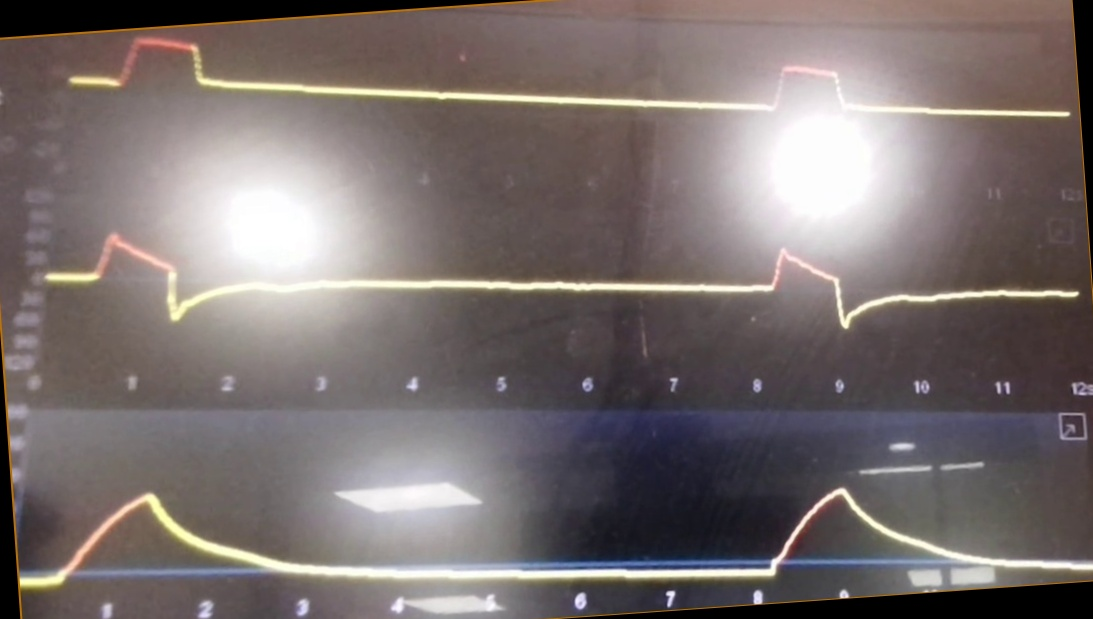Normal Flow: (49, 202, 1078, 365)
Normal Volume: (21, 434, 1093, 591)
